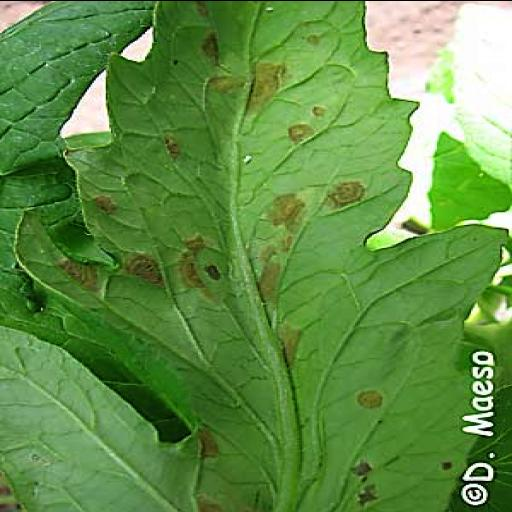disease_tomato: (56, 0, 496, 512)
